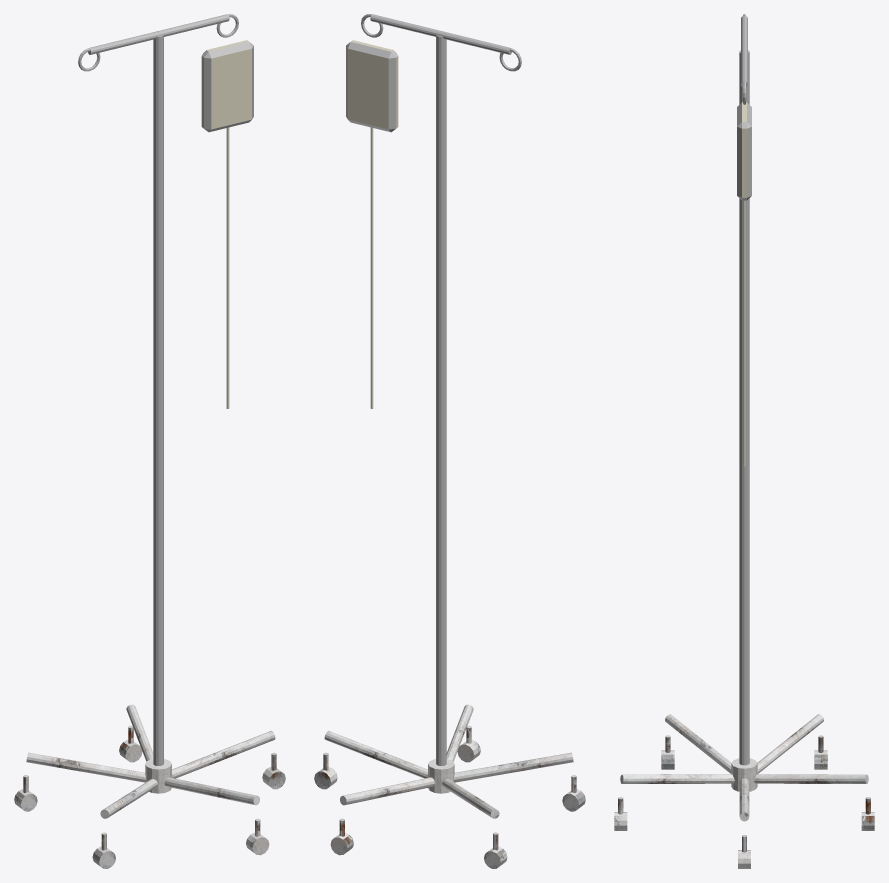
Rendered from iv-stand.glb.
3 renders of one model, left to right at view 1: azimuth 30°, elevation 25°; view 2: azimuth 150°, elevation 25°; view 3: azimuth 270°, elevation 25°, orthographic. The views are drawn at different scales.
Visible parts, largest first — view 1: IVStand; view 2: IVStand; view 3: IVStand.
Part boxes in pixels (x1,y1,x2,y2): IVStand: (14,14,285,868); IVStand: (314,14,585,868); IVStand: (614,14,874,868).
Size of the model in its own units: 0.5868 by 1.95 by 0.6006.
Materials: 3 (1 with a texture image).
